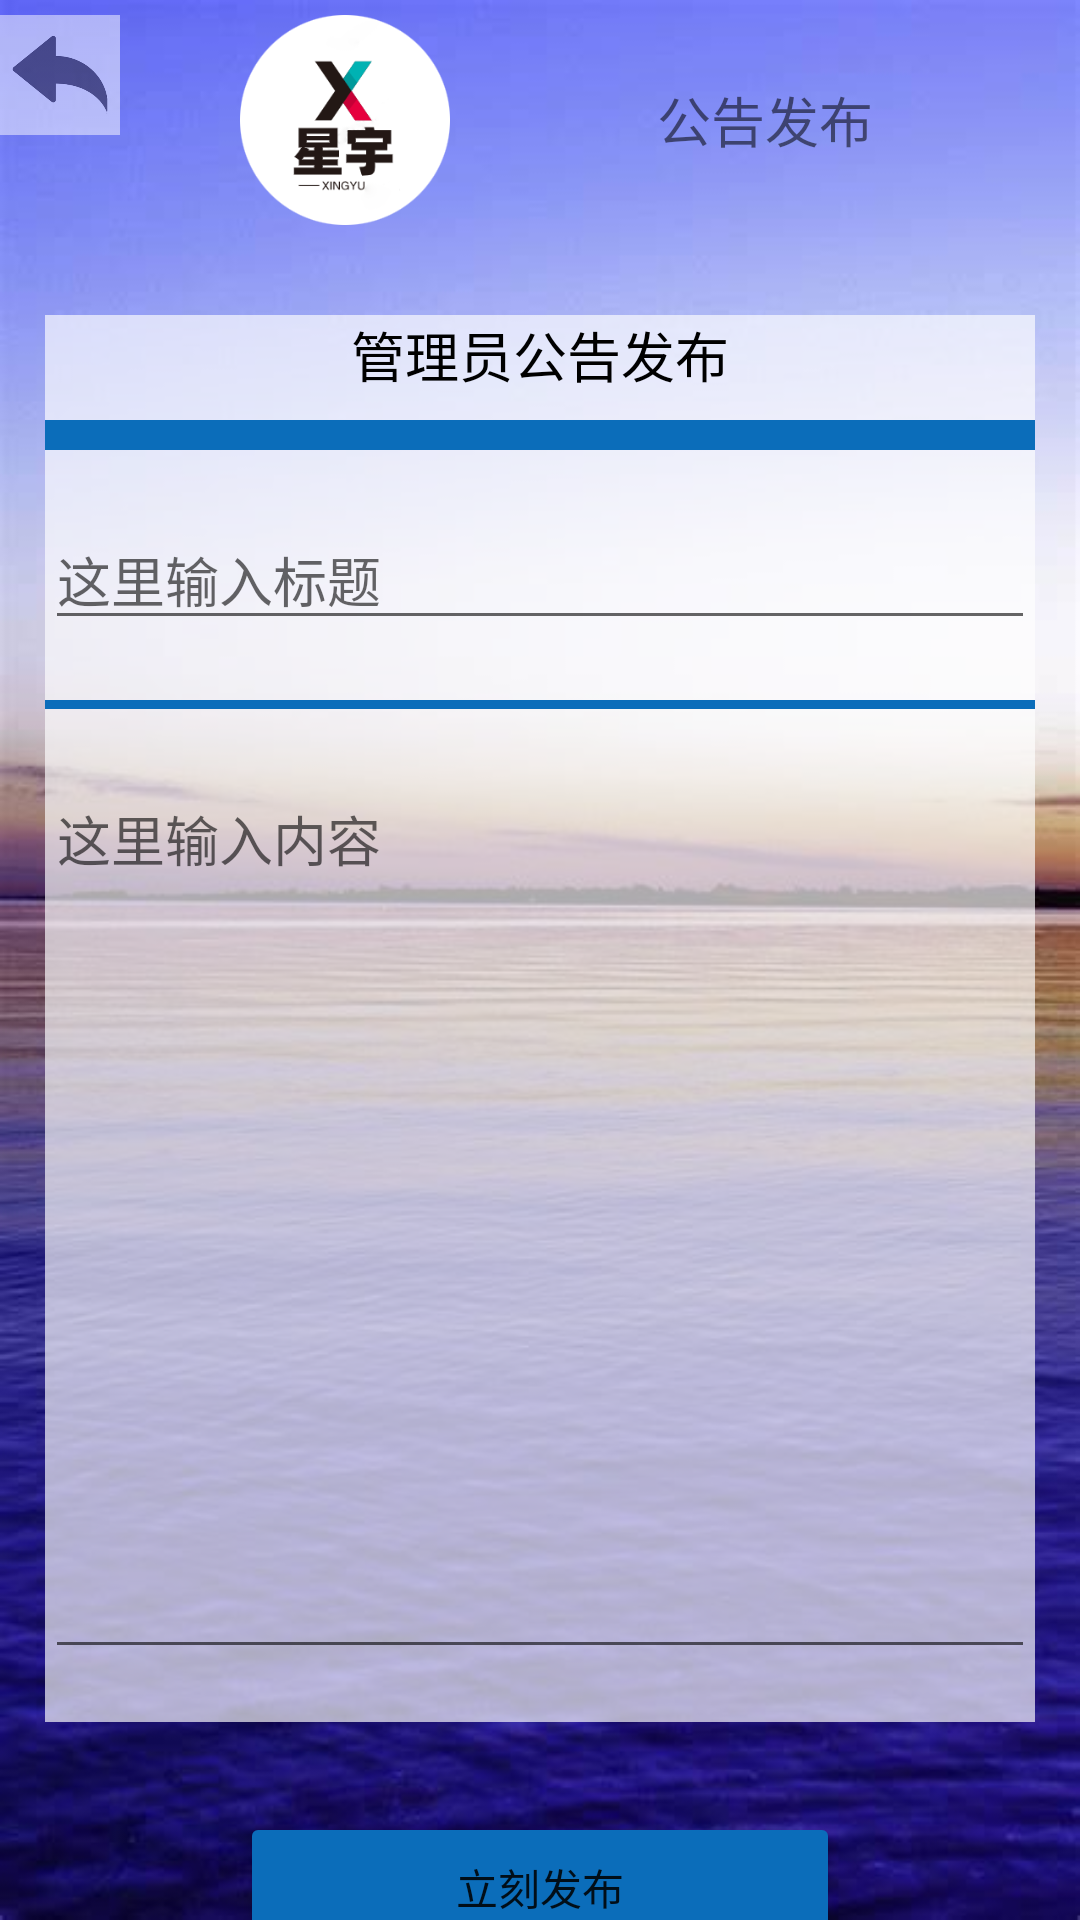

Point at icon controls on the screen. Image size 1080w x 1920h, points as point (x, y).
back: point (60, 75)
